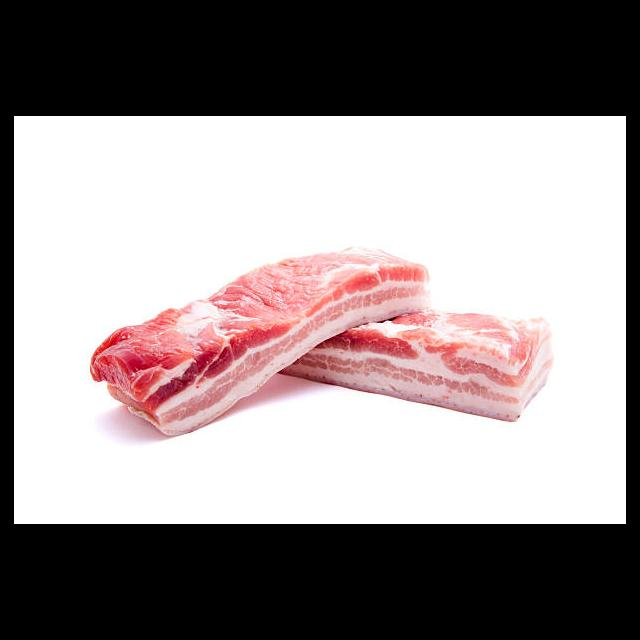pork: (95, 294, 296, 434), (334, 305, 555, 422), (239, 242, 434, 327)
